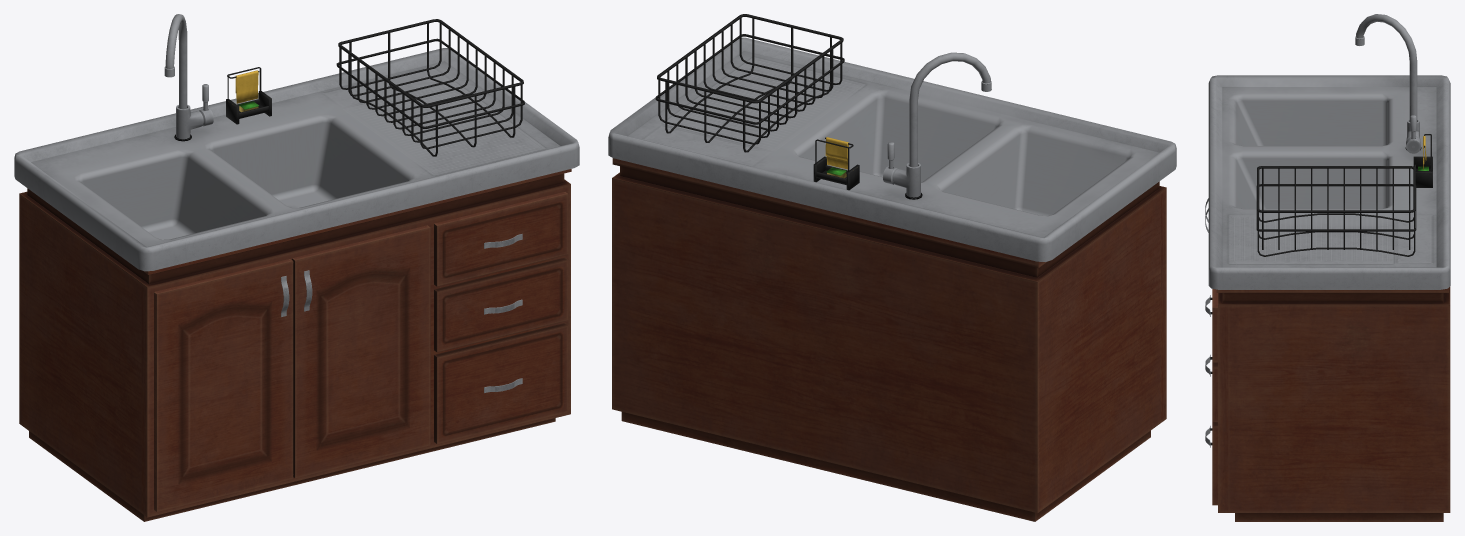
The model's file is Sink.fbx.
The picture shows the model from 3 angles, left to right: view 1: azimuth 30°, elevation 25°; view 2: azimuth 150°, elevation 25°; view 3: azimuth 270°, elevation 25°; orthographic projection. The views are drawn at different scales.
Visible parts, largest first — view 1: Cabinet, Sink, Drainer, CleaningCloth, Faucet.001, Faucet; view 2: Cabinet, Sink, Drainer, Faucet.001, CleaningCloth, Faucet; view 3: Cabinet, Sink, Drainer, Faucet.001, CleaningCloth, Lever.
Boxes of the visible parts, x1=… form: Cabinet: x1=19, y1=169, x2=571, y2=521; Sink: x1=14, y1=48, x2=579, y2=271; Drainer: x1=336, y1=19, x2=524, y2=156; CleaningCloth: x1=226, y1=67, x2=271, y2=124; Faucet.001: x1=164, y1=14, x2=187, y2=109; Faucet: x1=174, y1=105, x2=203, y2=141; Cabinet: x1=612, y1=158, x2=1166, y2=521; Sink: x1=608, y1=37, x2=1176, y2=261; Drainer: x1=655, y1=14, x2=844, y2=152; Faucet.001: x1=909, y1=52, x2=991, y2=167; CleaningCloth: x1=813, y1=137, x2=859, y2=190; Faucet: x1=893, y1=163, x2=922, y2=199; Cabinet: x1=1205, y1=198, x2=1450, y2=521; Sink: x1=1208, y1=75, x2=1450, y2=289; Drainer: x1=1256, y1=166, x2=1416, y2=256; Faucet.001: x1=1355, y1=14, x2=1417, y2=121; CleaningCloth: x1=1413, y1=134, x2=1432, y2=187; Lever: x1=1406, y1=115, x2=1420, y2=153.
Size of the model in its own units: 317 by 286 by 169.
